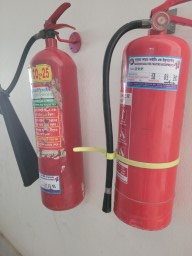fire_extinguisher: (25, 1, 174, 105)
